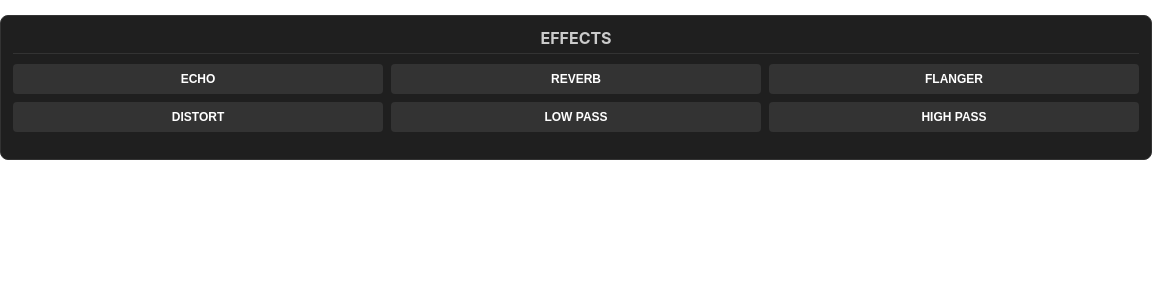
Test: AudioEffects Component › toggles effect on/off when clicking the same button twice
# Click on ECHO effect to activate
Click the button "ECHO" at (198,79), box [13,64,383,94]
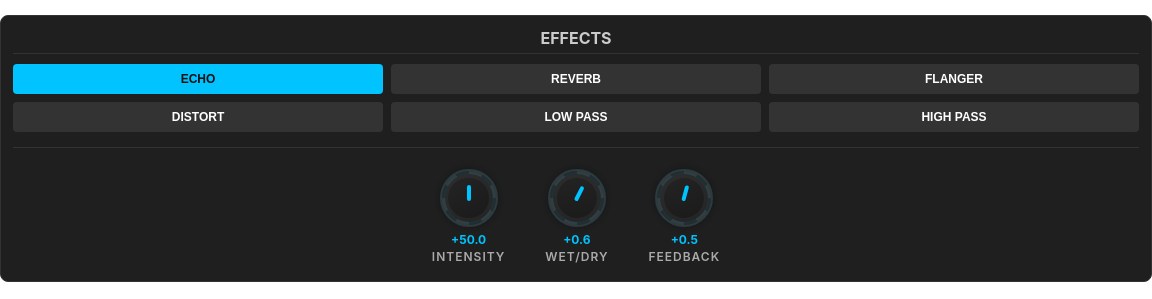
Expected: the text "INTENSITY" is shown, [432,249,505,264]
# Click on ECHO effect again to deactivate
Click the button "ECHO" at (198,79), box [13,64,383,94]
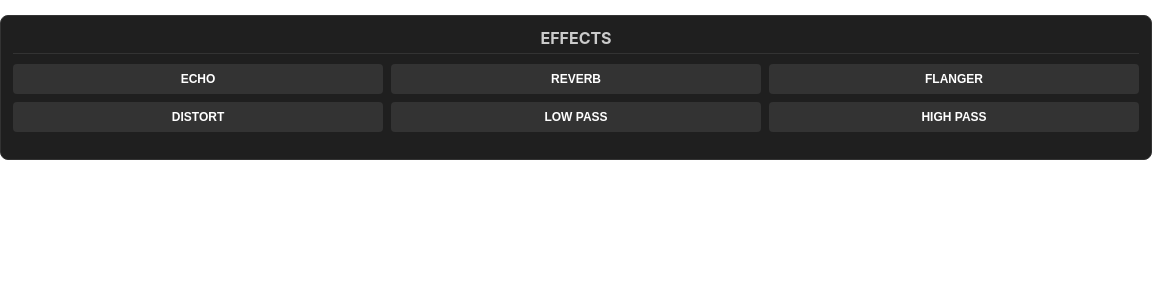
Expected: the text "INTENSITY" is gone
